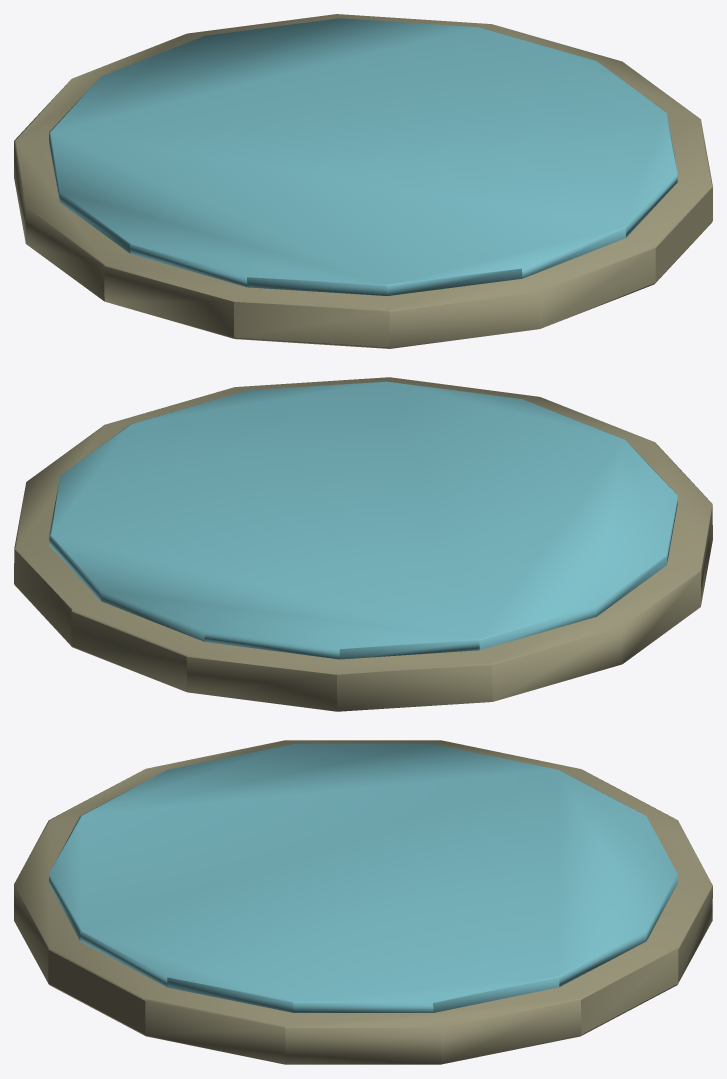
Rendered from SM_Warmerdamm_Pond_LOD1.fbx.
The picture shows the model from 3 angles, top to bottom: view 1: azimuth 30°, elevation 25°; view 2: azimuth 150°, elevation 25°; view 3: azimuth 270°, elevation 25°; orthographic projection.
Parts seen in each view (by area): view 1: SM_Warmerdamm_Pond_LOD1; view 2: SM_Warmerdamm_Pond_LOD1; view 3: SM_Warmerdamm_Pond_LOD1.
Boxes of the visible parts, left/top/right/bottom form: SM_Warmerdamm_Pond_LOD1: left=14, top=14, right=712, bottom=348; SM_Warmerdamm_Pond_LOD1: left=14, top=377, right=712, bottom=711; SM_Warmerdamm_Pond_LOD1: left=14, top=740, right=712, bottom=1064.
Size of the model in its own units: 2.92 by 0.23 by 3.
